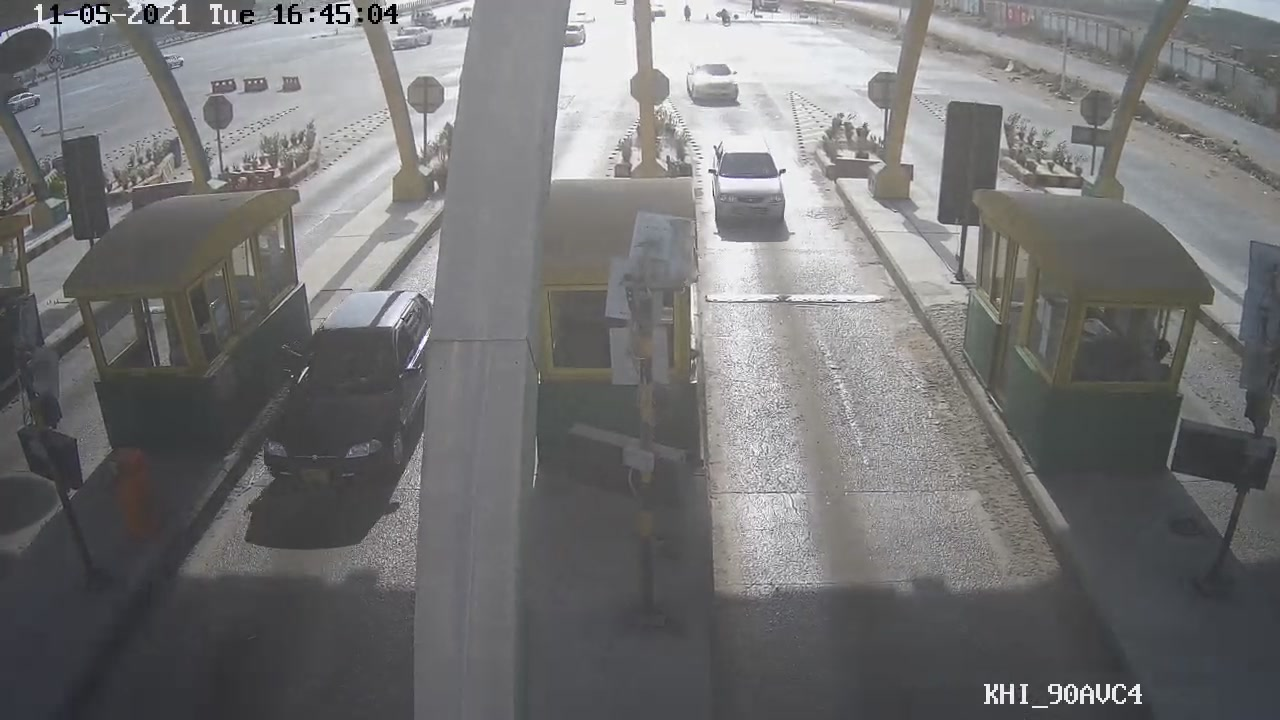F1: (704, 140, 795, 228)
